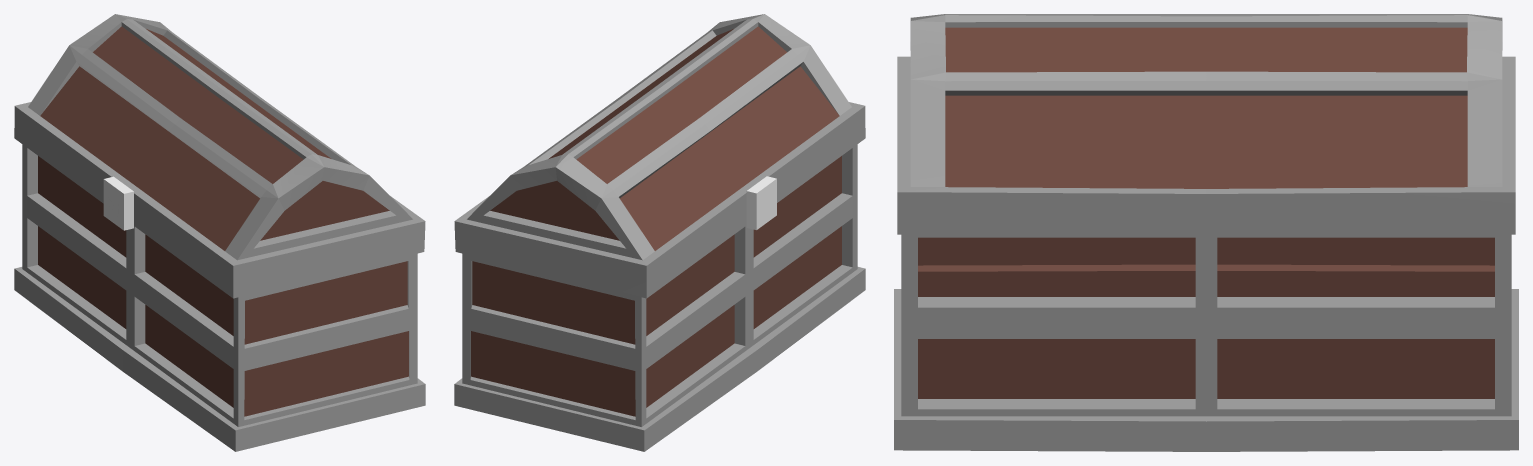
Rendered from chest.gltf.
3 views of the same model, side by side, from view 1: azimuth 30°, elevation 25°; view 2: azimuth 150°, elevation 25°; view 3: azimuth 270°, elevation 25° (orthographic). The views are drawn at different scales.
Parts seen in each view (by area): view 1: chest, lock; view 2: chest, lock; view 3: chest.
Boxes of the visible parts, x1,y1,x2,y2 form: chest: [14, 14, 425, 451]; lock: [103, 176, 133, 230]; chest: [454, 14, 865, 451]; lock: [746, 176, 776, 230]; chest: [894, 14, 1518, 451].
Size of the model in its own units: 0.7062 by 0.866 by 1.33.
